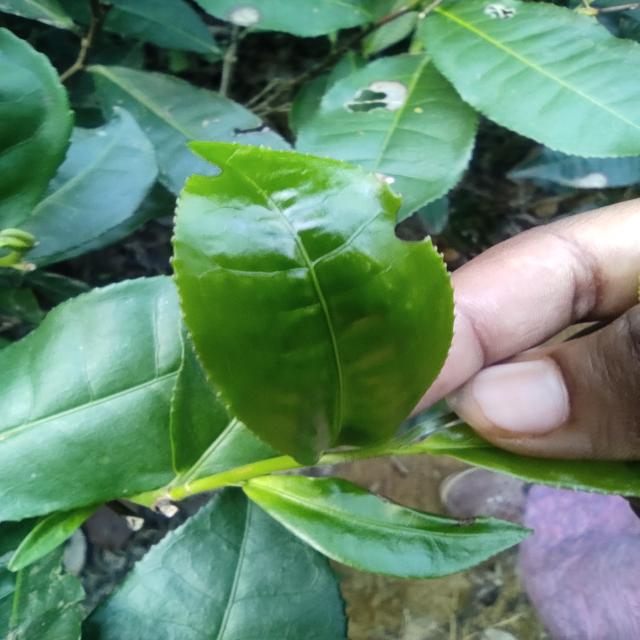Category C 4-7 days: (130, 105, 484, 478)
